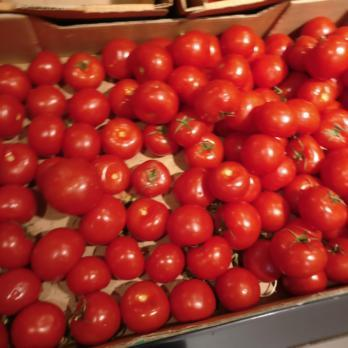Tomato: (0, 40, 260, 308), (209, 19, 348, 285)
